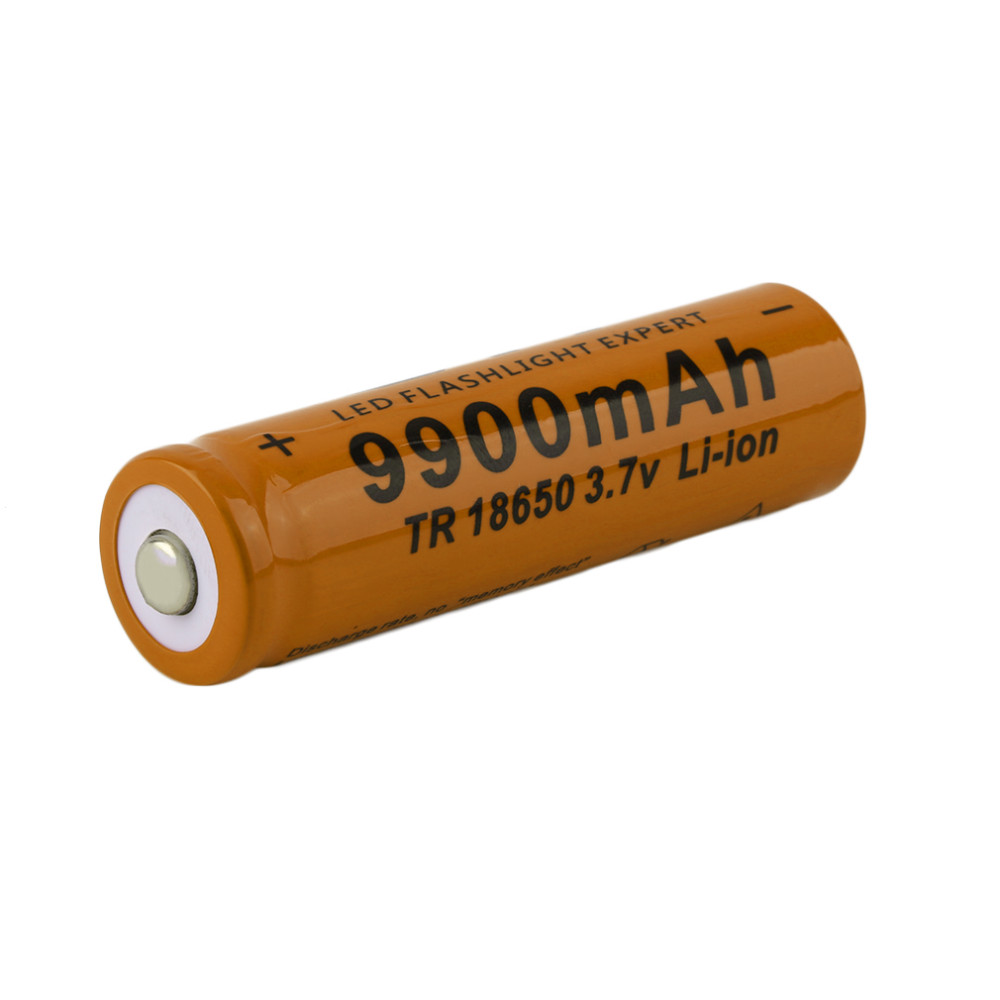Battery: (93, 277, 873, 691)
